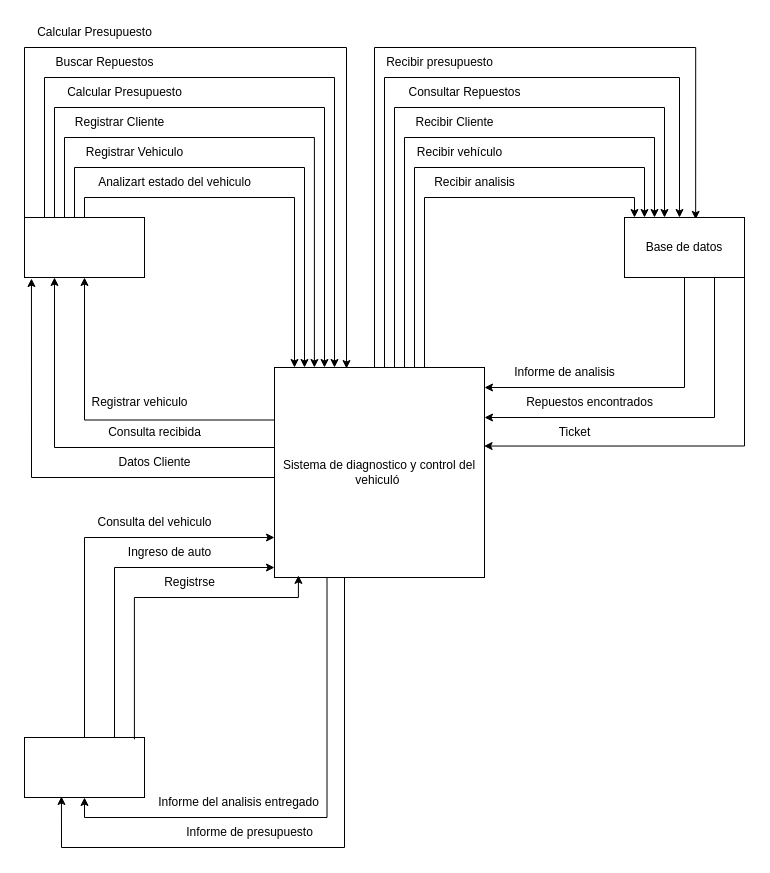
This 770x873 diagram has some shape labels left out. Each missing label, with the centre of its shape:
Cliente: [84,767]
Empleado: [84,247]
